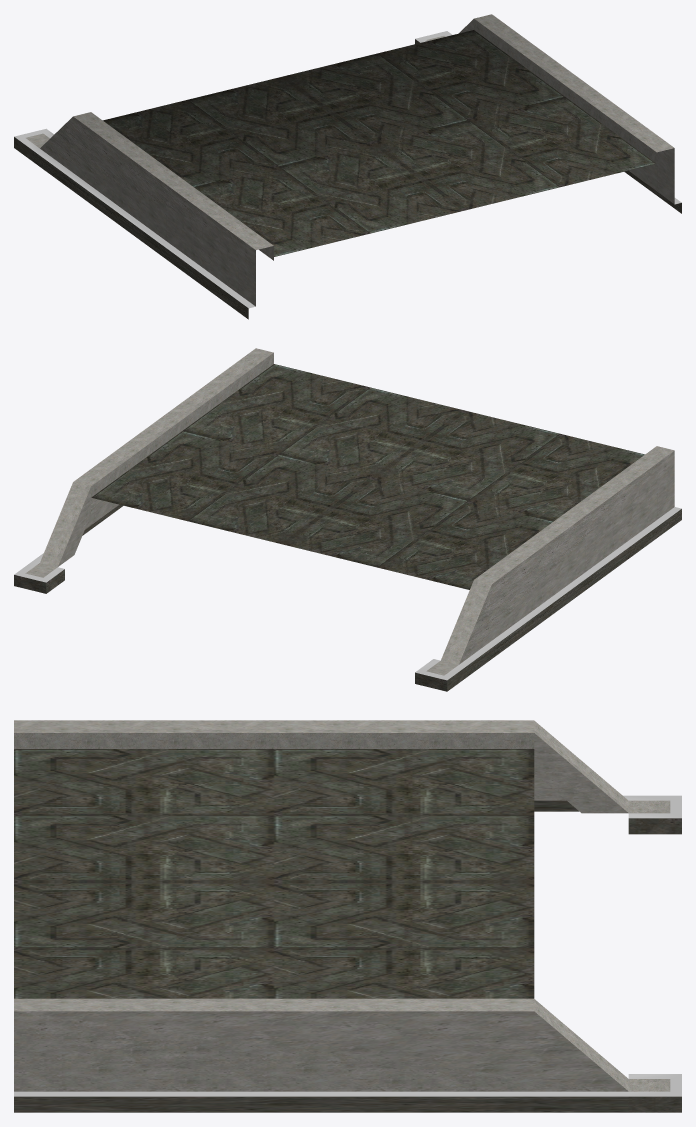
Rendered from DWARF_PALACE_FORGE_GET_ON01.obj.
3 renders of one model, top to bottom at view 1: azimuth 30°, elevation 25°; view 2: azimuth 150°, elevation 25°; view 3: azimuth 270°, elevation 25°, orthographic. The views are drawn at different scales.
Visible parts, largest first — view 1: forge_get_on01; view 2: forge_get_on01; view 3: forge_get_on01.
Part boxes in pixels (box(x1,y1,x2,y2)): forge_get_on01: box(14, 14, 681, 319); forge_get_on01: box(14, 348, 681, 691); forge_get_on01: box(14, 720, 681, 1112).
Size of the model in its own units: 1204 by 180 by 1130.
